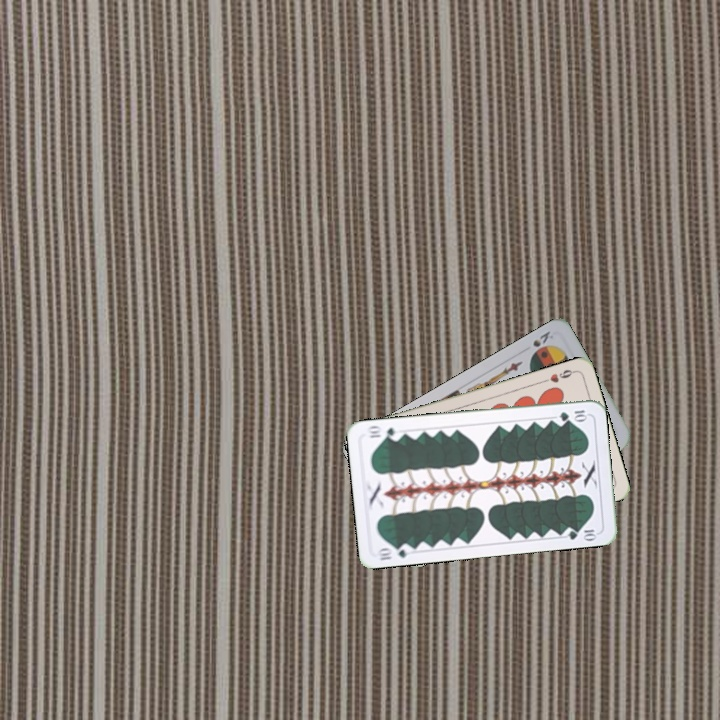G10: (374, 540, 414, 563), (555, 406, 589, 423)
H9: (539, 365, 578, 385)
SK: (527, 327, 553, 358)
